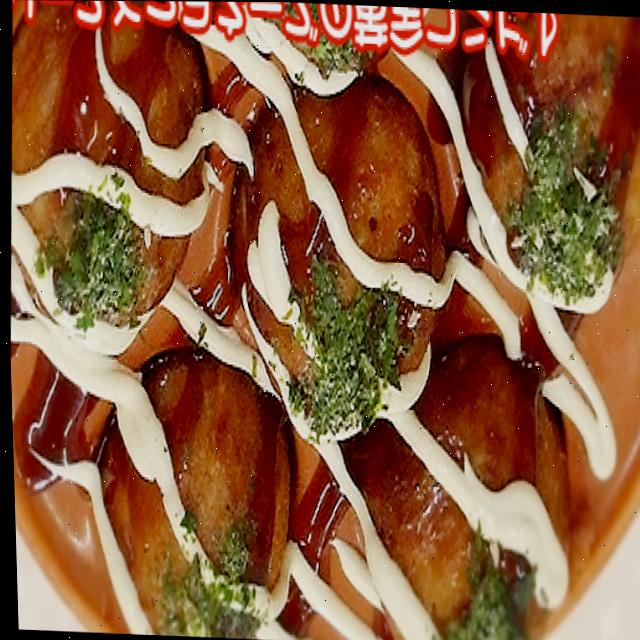炸货点心: (1, 58, 640, 640)
